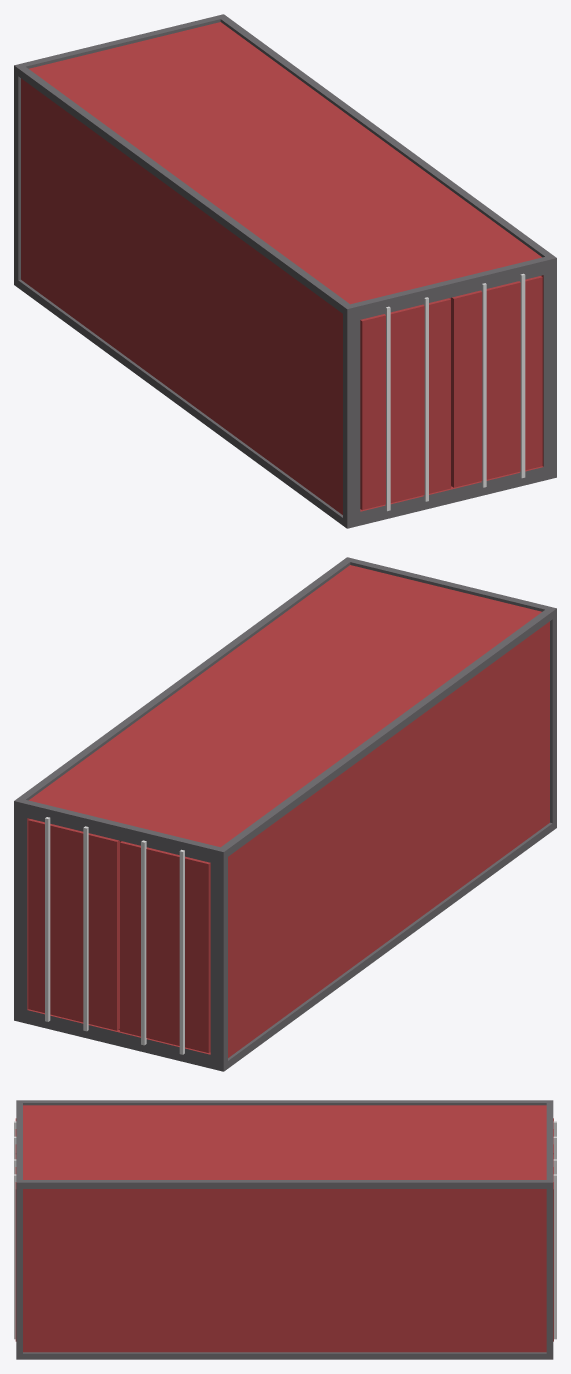
File: Container.fbx
3 renders of one model, top to bottom at view 1: azimuth 30°, elevation 25°; view 2: azimuth 150°, elevation 25°; view 3: azimuth 270°, elevation 25°, orthographic. The views are drawn at different scales.
Parts seen in each view (by area): view 1: Container; view 2: Container; view 3: Container.
Boxes of the visible parts, x1=… form: Container: x1=14, y1=14, x2=556, y2=528; Container: x1=14, y1=557, x2=556, y2=1071; Container: x1=14, y1=1100, x2=556, y2=1359.
Size of the model in its own units: 628 by 628 by 1744.
